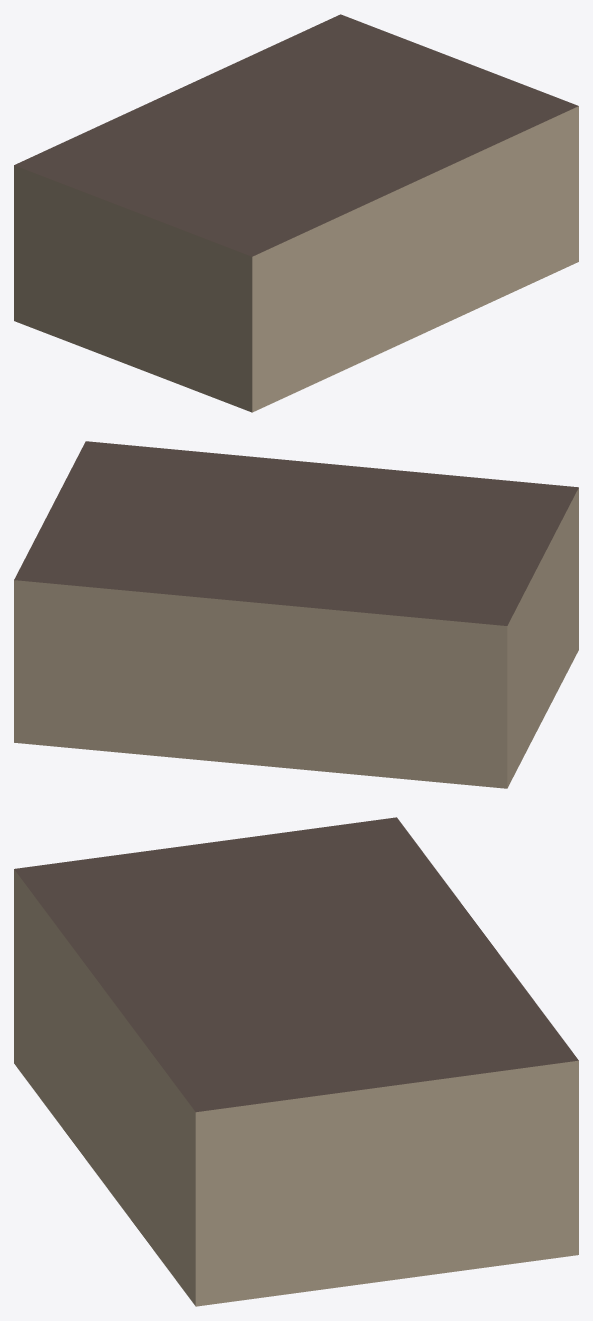
3 renders of one model, top to bottom at view 1: azimuth 30°, elevation 25°; view 2: azimuth 150°, elevation 25°; view 3: azimuth 270°, elevation 25°, orthographic. The views are drawn at different scales.
Visible parts, largest first — view 1: HP-w859488893; view 2: HP-w859488893; view 3: HP-w859488893.
Part boxes in pixels (<box>): HP-w859488893: <box>14,14,578,412</box>; HP-w859488893: <box>14,441,578,788</box>; HP-w859488893: <box>14,817,578,1306</box>.
Size of the model in its own units: 29.28 by 9 by 23.7.
